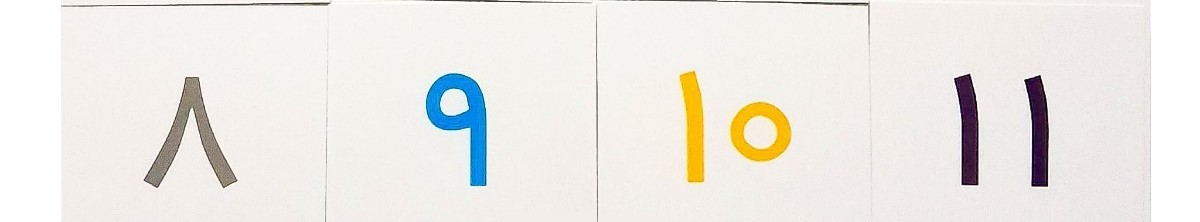character: (650, 33, 830, 204), (929, 37, 1091, 218), (381, 28, 534, 215), (118, 51, 254, 221)
